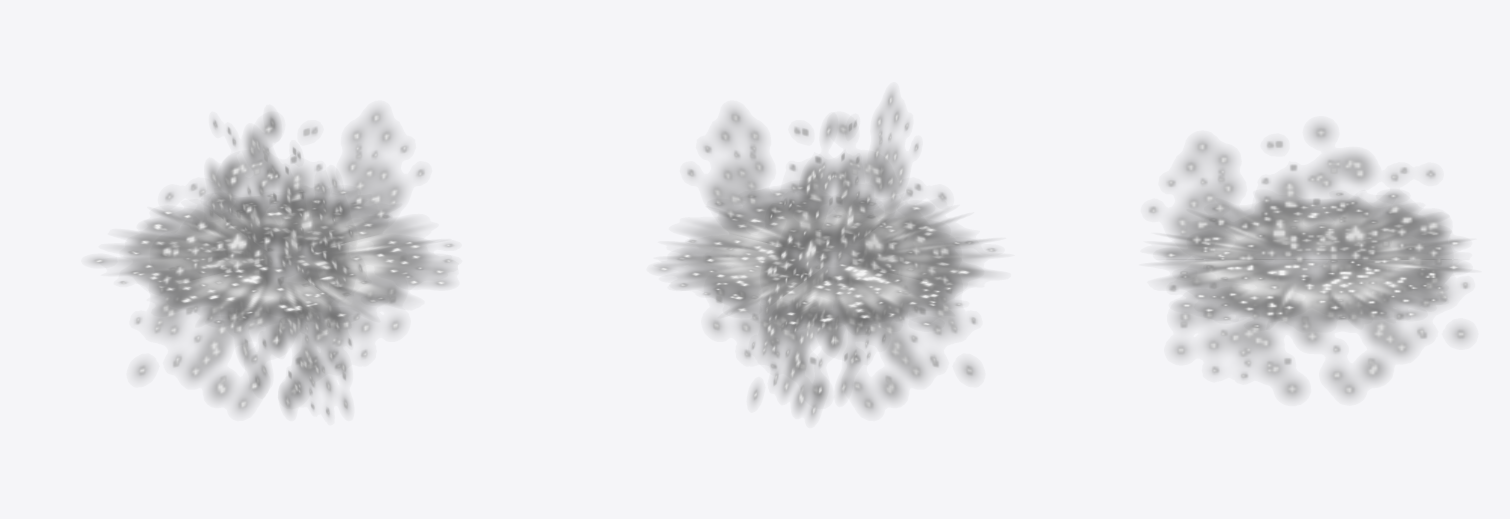
File: si_eos_6000.glb
3 renders of one model, left to right at view 1: azimuth 30°, elevation 25°; view 2: azimuth 150°, elevation 25°; view 3: azimuth 270°, elevation 25°, orthographic. The views are drawn at different scales.
Parts seen in each view (by area): view 1: layer_00_si_est_0200, layer_01_si_est_0403; view 2: layer_00_si_est_0200, layer_01_si_est_0403; view 3: layer_00_si_est_0200, layer_01_si_est_0403.
Part boxes in pixels (x1,y1,x2,y2): layer_00_si_est_0200: [91, 109, 453, 416]; layer_01_si_est_0403: [118, 196, 435, 323]; layer_00_si_est_0200: [657, 91, 996, 418]; layer_01_si_est_0403: [677, 195, 990, 326]; layer_00_si_est_0200: [1149, 124, 1468, 398]; layer_01_si_est_0403: [1161, 199, 1454, 323].
Size of the model in its own units: 160 by 160 by 160.
2 materials, 2 textured.
